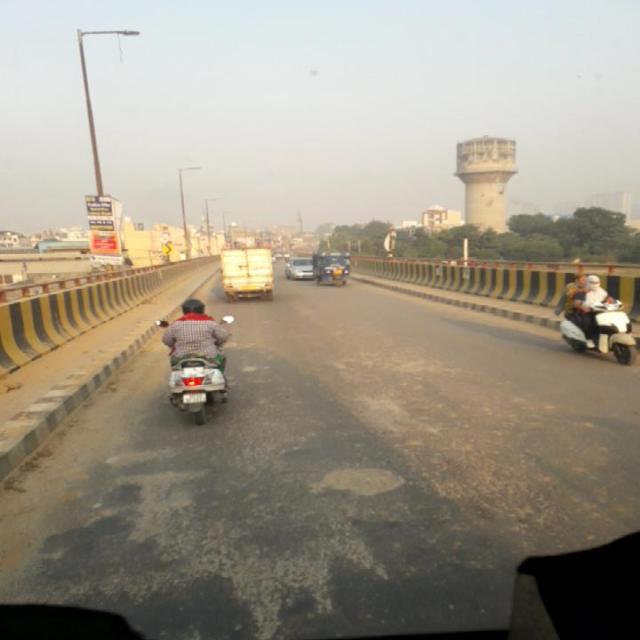Surface Erosion: (265, 270, 640, 640)
